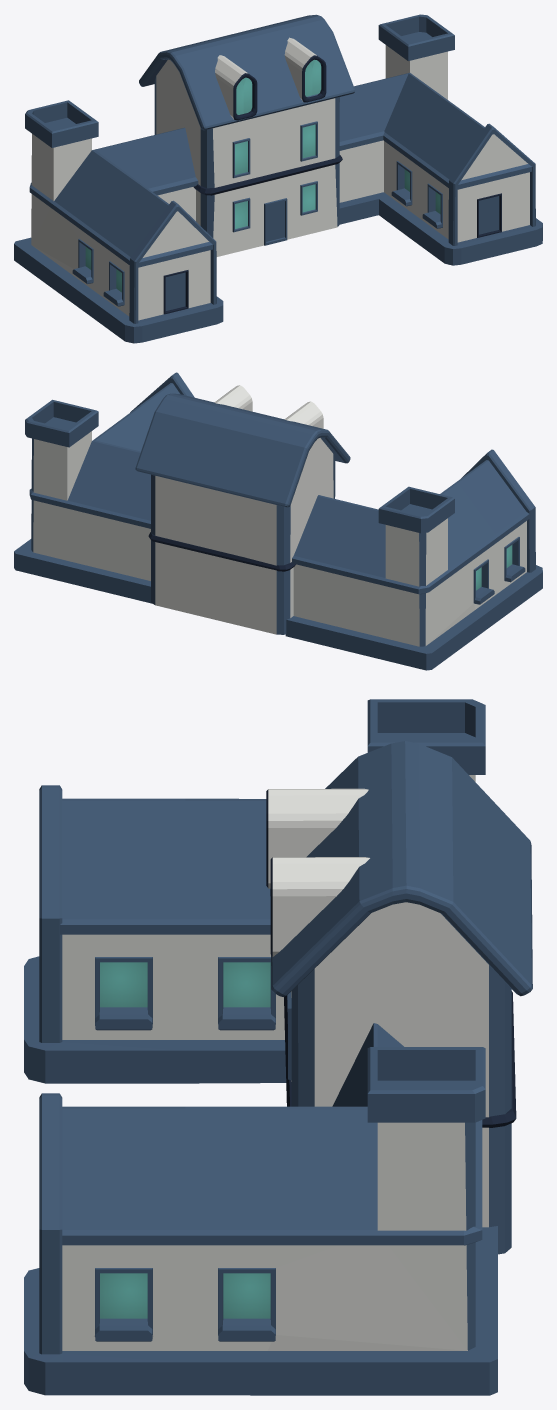
File: SM_House_18.fbx
3 renders of one model, top to bottom at view 1: azimuth 30°, elevation 25°; view 2: azimuth 150°, elevation 25°; view 3: azimuth 270°, elevation 25°, orthographic. The views are drawn at different scales.
Visible parts, largest first — view 1: SM_House_18; view 2: SM_House_18; view 3: SM_House_18.
Boxes of the visible parts, box(x1,y1,x2,y2) form: SM_House_18: box(14, 14, 542, 343); SM_House_18: box(14, 372, 542, 670); SM_House_18: box(24, 699, 532, 1395).
Bounding box in the file's own units: 2068 × 900 × 1090.
